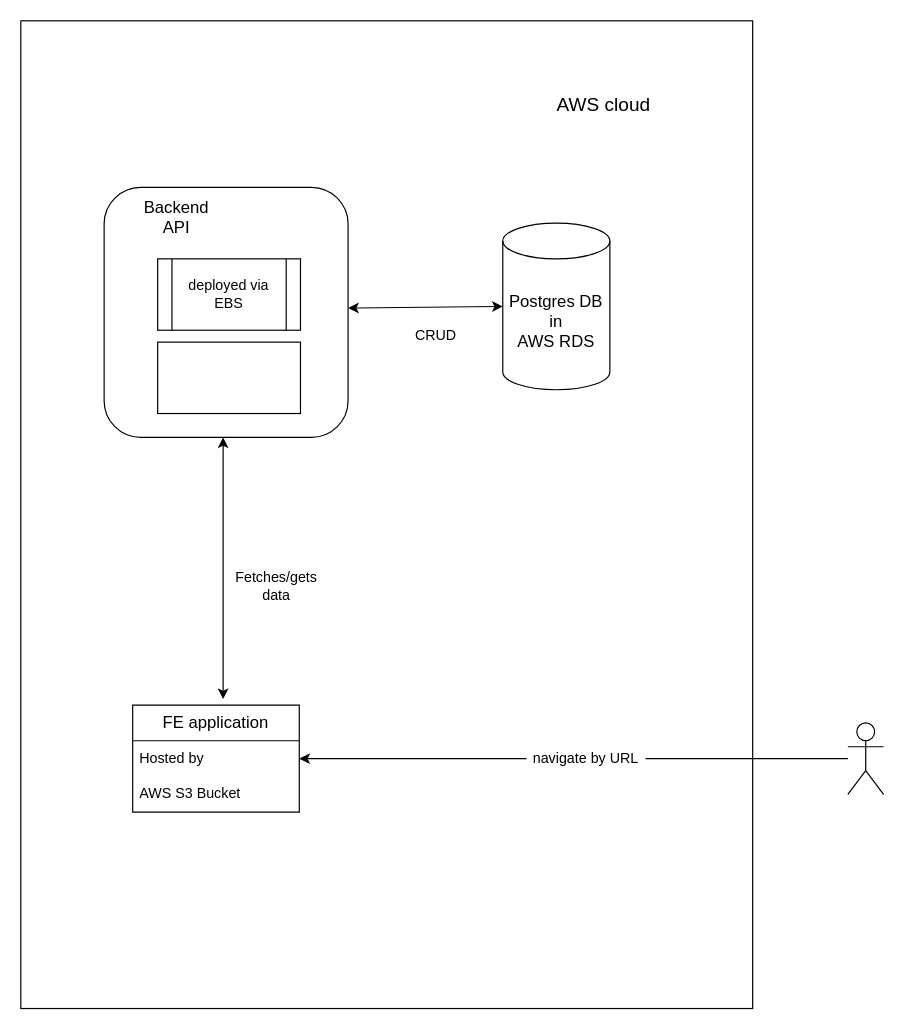
This 904x1029 diagram has some shape labels left out. The shapes that lost their labels are listed below. From the top down, each one's centre as x and y in pixels, then its label:
At pixel 228 377: "Hosted on AWS S3 Bucket".
At pixel 865 758: "User".
